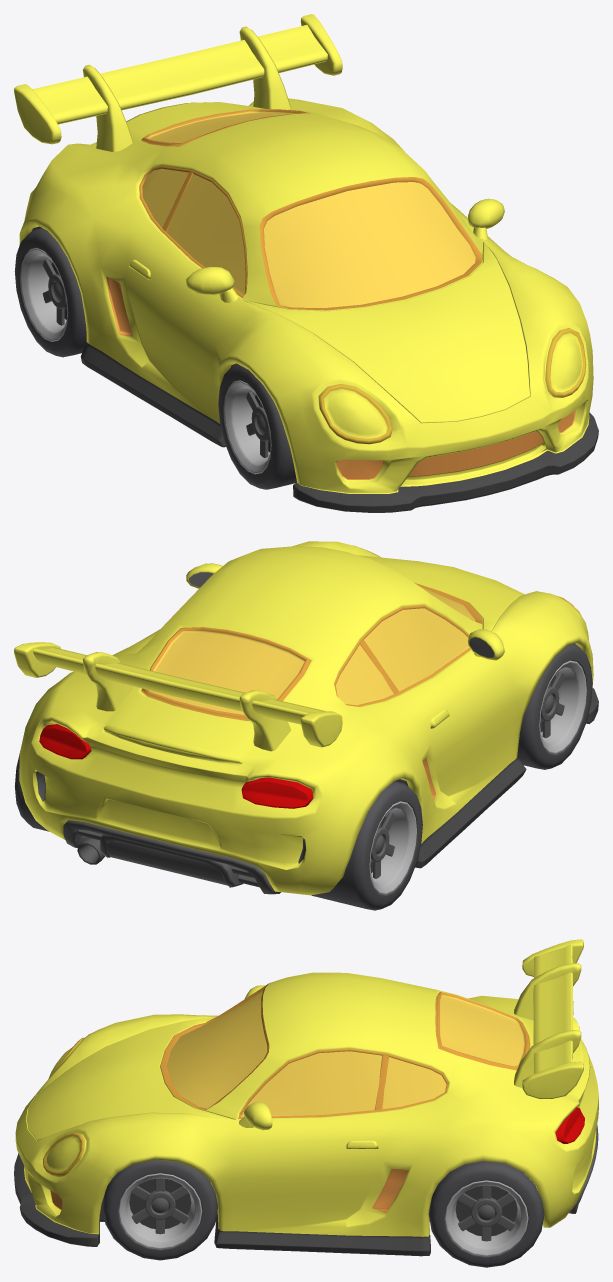
File: car.fbx
3 views of the same model, one above another, from view 1: azimuth 30°, elevation 25°; view 2: azimuth 150°, elevation 25°; view 3: azimuth 270°, elevation 25° (orthographic). The views are drawn at different scales.
Parts seen in each view (by area): view 1: polySurface9, polySurface8, polySurface6; view 2: polySurface9, polySurface6; view 3: polySurface9, polySurface4, polySurface8.
Part boxes in pixels (box(x1,y1,x2,y2)): polySurface9: box(14, 14, 598, 512); polySurface8: box(259, 177, 482, 310); polySurface6: box(139, 166, 247, 297); polySurface9: box(14, 541, 598, 910); polySurface6: box(334, 605, 470, 706); polySurface9: box(14, 939, 598, 1267); polySurface4: box(238, 1048, 448, 1118); polySurface8: box(160, 983, 269, 1110).
Size of the model in its own units: 60.33 by 38.28 by 99.8.
